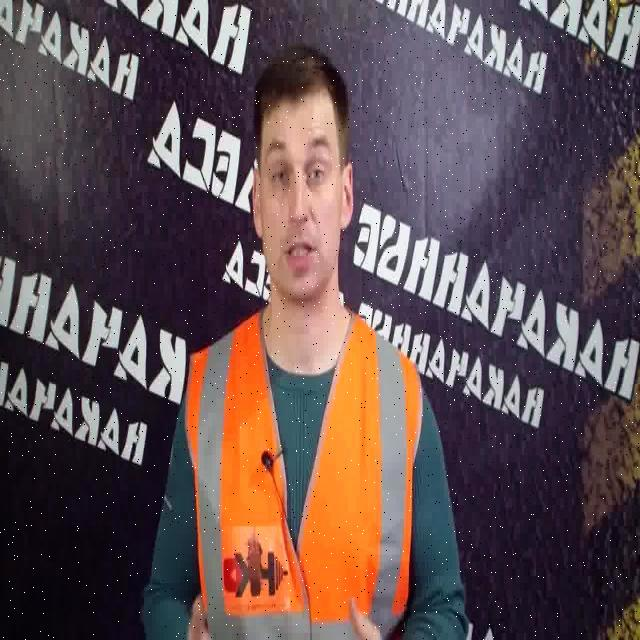Person: (136, 43, 469, 640)
Vest: (187, 304, 389, 614)
